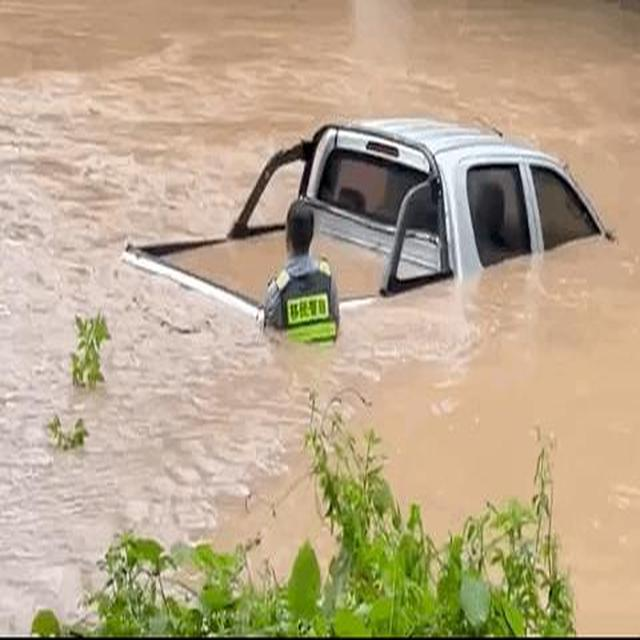Car-RiskLevel3: (116, 103, 627, 333)
Person-RiskLevel3: (256, 196, 357, 370)
